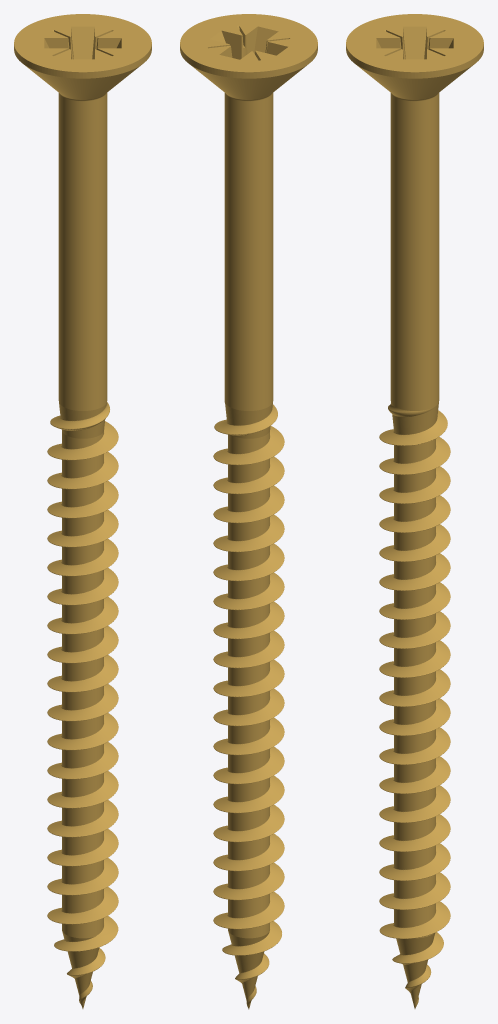
The model's file is model_full.glb.
3 views of the same model, side by side, from view 1: azimuth 90°, elevation 25°; view 2: azimuth 150°, elevation 25°; view 3: azimuth 270°, elevation 25° (orthographic).
Parts seen in each view (by area): view 1: geometry_0; view 2: geometry_0; view 3: geometry_0.
Boxes of the visible parts, x1,y1,x2,y2 form: geometry_0: (14,14,151,1008); geometry_0: (180,14,317,1009); geometry_0: (346,14,483,1008).
Size of the model in its own units: 0.00775 by 0.06 by 0.00775.
